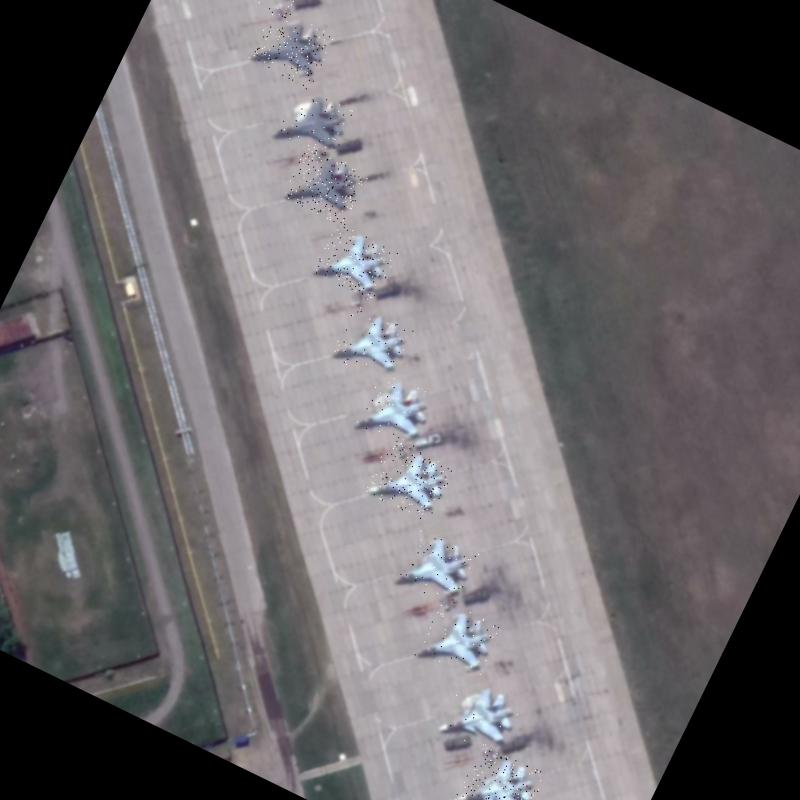A1: (414, 598, 504, 685), (364, 438, 454, 522), (351, 368, 438, 454), (329, 301, 416, 386), (392, 525, 480, 609), (247, 5, 335, 88), (281, 144, 369, 226), (312, 222, 398, 303), (274, 84, 356, 162), (224, 0, 312, 18)
A19: (434, 671, 526, 762), (452, 742, 546, 800)
